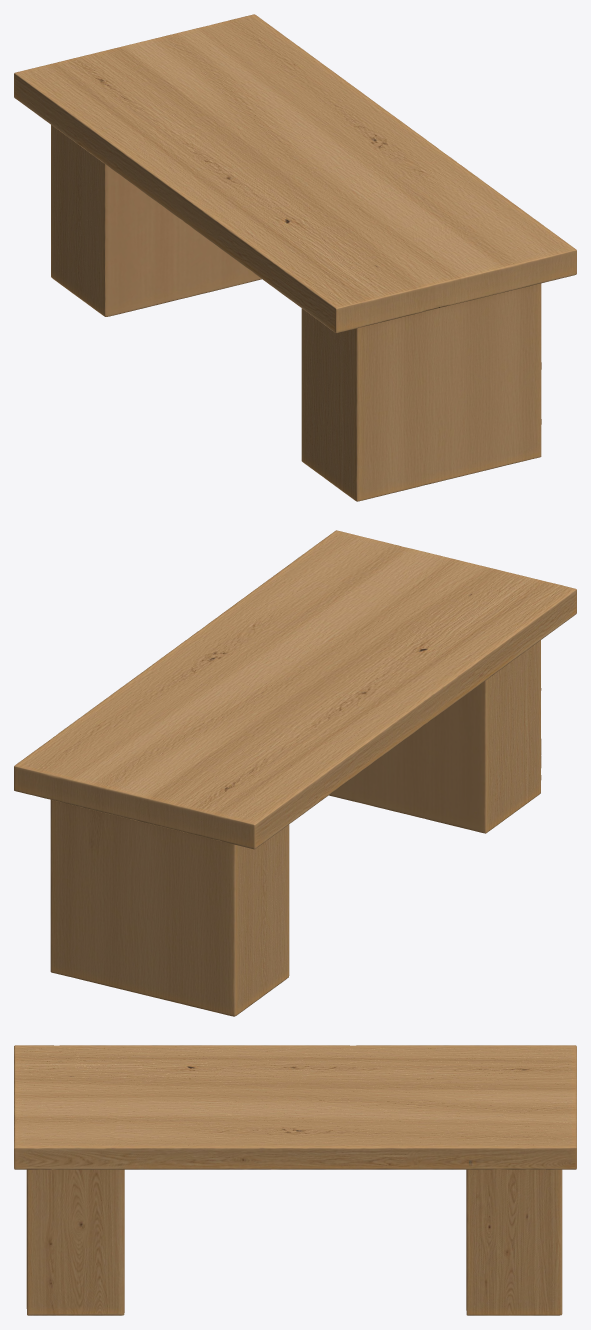
The model's file is desk-executive-oak.glb.
3 views of the same model, one above another, from view 1: azimuth 30°, elevation 25°; view 2: azimuth 150°, elevation 25°; view 3: azimuth 270°, elevation 25° (orthographic). The views are drawn at different scales.
Parts seen in each view (by area): view 1: tripo_node_1cfcce9e-2926-4eca-95cb-86d26f96ed83; view 2: tripo_node_1cfcce9e-2926-4eca-95cb-86d26f96ed83; view 3: tripo_node_1cfcce9e-2926-4eca-95cb-86d26f96ed83.
Part boxes in pixels (<box>): tripo_node_1cfcce9e-2926-4eca-95cb-86d26f96ed83: <box>14,14,576,501</box>; tripo_node_1cfcce9e-2926-4eca-95cb-86d26f96ed83: <box>14,530,576,1016</box>; tripo_node_1cfcce9e-2926-4eca-95cb-86d26f96ed83: <box>14,1045,576,1315</box>.
Bounding box in the file's own units: 0.4232 × 0.3456 × 0.9792.
Materials: 1 (1 with a texture image).
